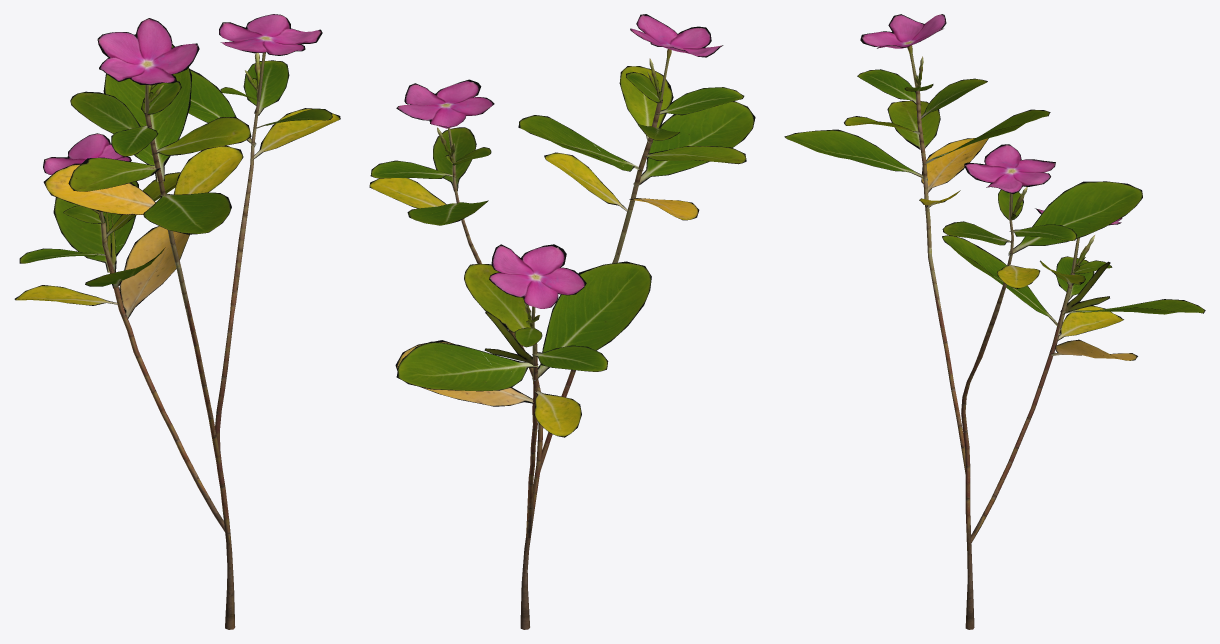
Rendered from periwinkle_plant_4.gltf.
3 renders of one model, left to right at view 1: azimuth 30°, elevation 25°; view 2: azimuth 150°, elevation 25°; view 3: azimuth 270°, elevation 25°, orthographic. The views are drawn at different scales.
Parts seen in each view (by area): view 1: periwinkle_plant_05_LOD0; view 2: periwinkle_plant_05_LOD0; view 3: periwinkle_plant_05_LOD0.
Part boxes in pixels (bbox=[...]): periwinkle_plant_05_LOD0: bbox=[14, 14, 340, 629]; periwinkle_plant_05_LOD0: bbox=[369, 14, 755, 629]; periwinkle_plant_05_LOD0: bbox=[784, 14, 1205, 629].
Bounding box in the file's own units: 0.1111 × 0.2058 × 0.1409.
Materials: 1 (1 with a texture image).
